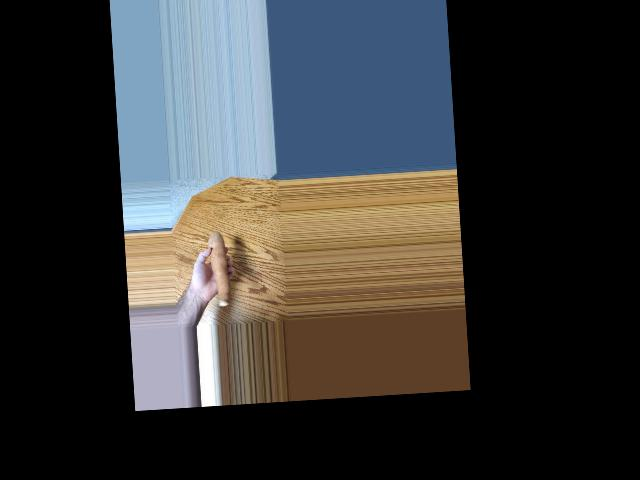sweet_potato: (211, 230, 234, 300)
